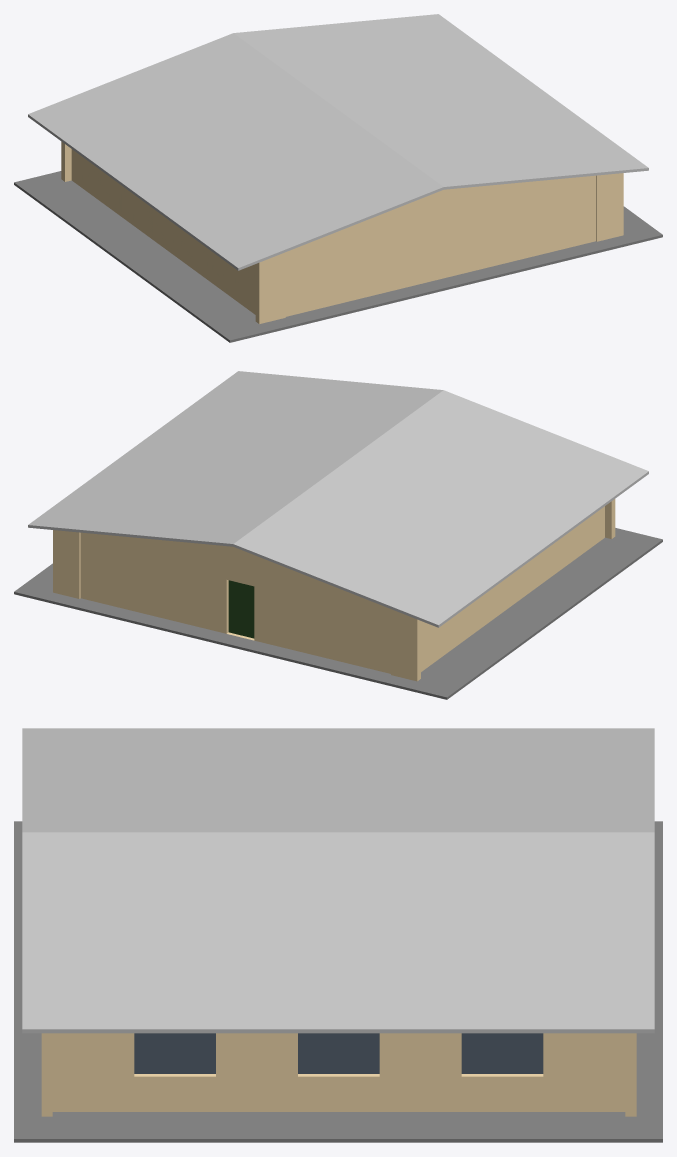
The model's file is salonalti.gltf.
The picture shows the model from 3 angles, top to bottom: view 1: azimuth 30°, elevation 25°; view 2: azimuth 150°, elevation 25°; view 3: azimuth 270°, elevation 25°; orthographic projection. The views are drawn at different scales.
Parts seen in each view (by area): view 1: Plane; view 2: Plane; view 3: Plane.
Part boxes in pixels (x1,y1,x2,y2): Plane: [14, 14, 662, 342]; Plane: [14, 371, 662, 699]; Plane: [14, 728, 662, 1142].
Size of the model in its own units: 19.7 by 4.39 by 17.01.
